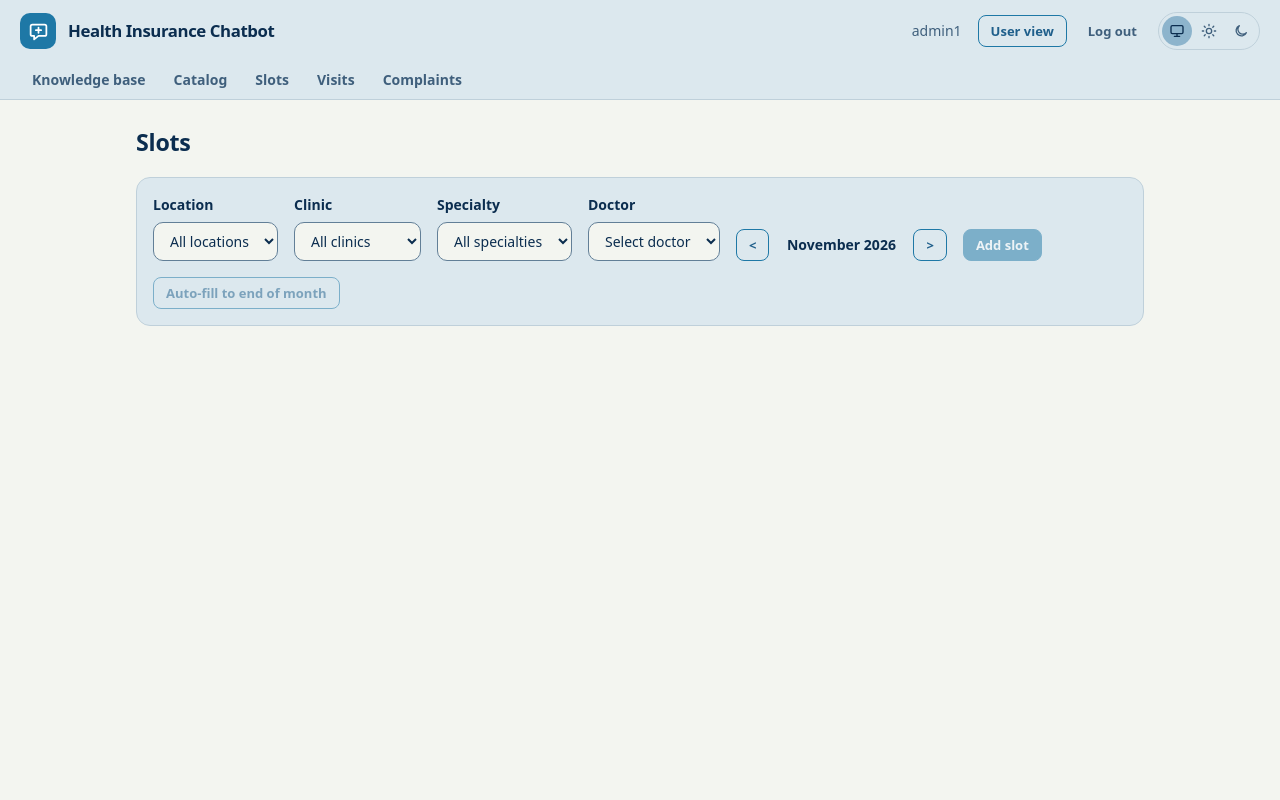
Test: AdminSlotsPage › C8: day labels and the month come from UTC, not the browser time zone
Select "Dr. Sara" in the dropdown with test id "doctor-select" at point(654, 241), box [588, 222, 720, 261]
(page scrolled)
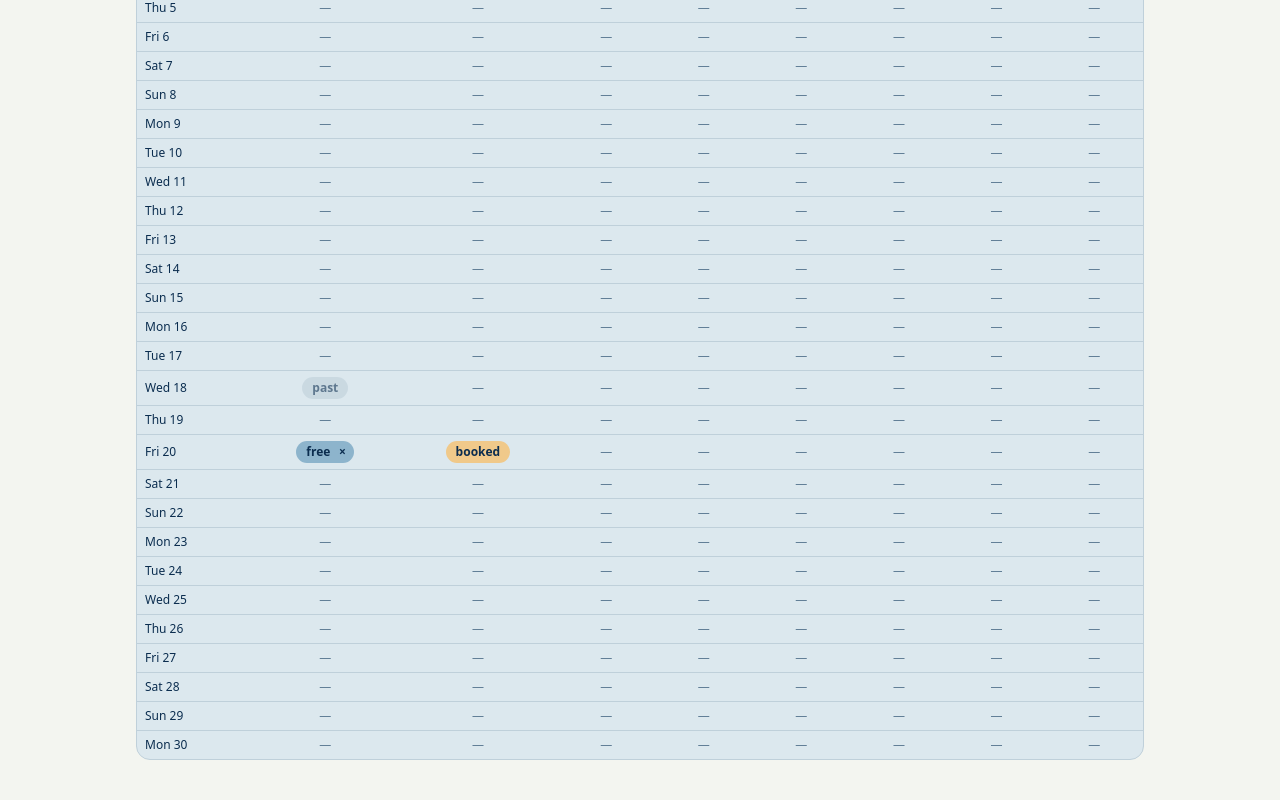
Check: the text "Fri 20" is shown, box [137, 435, 252, 470]
